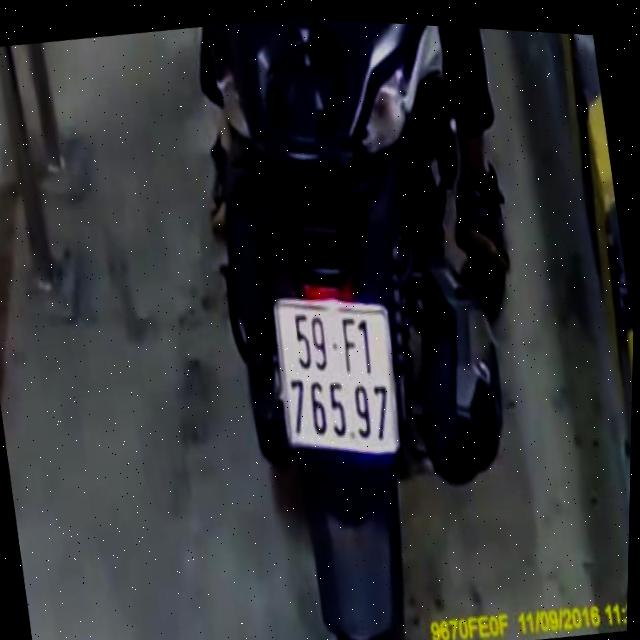motorcycle: (159, 10, 552, 640)
plate: (260, 278, 412, 474)
